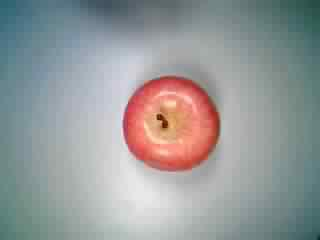apple: (116, 71, 221, 173)
